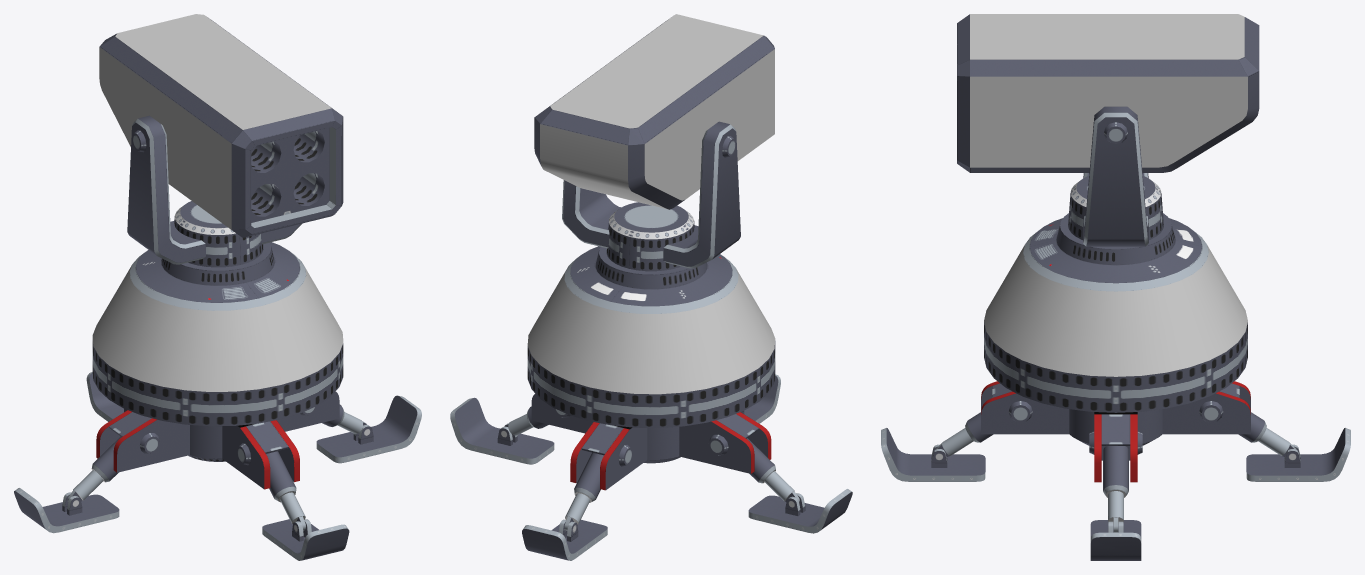
The model's file is Turret_Simple_02.FBX.
The picture shows the model from 3 angles, left to right: view 1: azimuth 30°, elevation 25°; view 2: azimuth 150°, elevation 25°; view 3: azimuth 270°, elevation 25°; orthographic projection. The views are drawn at different scales.
Visible parts, largest first — view 1: Turret_Body_A, Turret_Launcher, Turret_Head_A, Gear_D, Gear_A, Foot_B, Foot_D, Foot_A, Hydrolic_A, Gear_B, Hydrolic_D, Foot_C (+1 smaller); view 2: Turret_Body_A, Turret_Launcher, Turret_Head_A, Gear_D, Gear_C, Foot_B, Foot_D, Foot_C, Hydrolic_C, Gear_B, Hydrolic_D, Foot_A (+1 smaller); view 3: Turret_Launcher, Turret_Body_A, Turret_Head_A, Gear_C, Gear_A, Foot_C, Foot_A, Gear_B, Foot_B, Hydrolic_B, Hydrolic_C, Hydrolic_A.
Boxes of the visible parts, x1=… form: Turret_Body_A: x1=92, y1=242, x2=343, y2=461; Turret_Launcher: x1=99, y1=14, x2=343, y2=237; Turret_Head_A: x1=127, y1=115, x2=302, y2=267; Gear_D: x1=96, y1=410, x2=189, y2=472; Gear_A: x1=222, y1=420, x2=299, y2=489; Foot_B: x1=316, y1=395, x2=421, y2=463; Foot_D: x1=14, y1=488, x2=119, y2=533; Foot_A: x1=262, y1=519, x2=349, y2=560; Hydrolic_A: x1=266, y1=451, x2=305, y2=530; Gear_B: x1=277, y1=391, x2=339, y2=431; Hydrolic_D: x1=67, y1=436, x2=121, y2=501; Foot_C: x1=86, y1=372, x2=127, y2=421; Turret_Body_A: x1=527, y1=246, x2=775, y2=463; Turret_Launcher: x1=534, y1=14, x2=774, y2=209; Turret_Head_A: x1=562, y1=121, x2=740, y2=271; Gear_D: x1=679, y1=412, x2=771, y2=473; Gear_C: x1=570, y1=422, x2=647, y2=490; Foot_B: x1=450, y1=397, x2=554, y2=464; Foot_D: x1=748, y1=489, x2=852, y2=533; Foot_C: x1=522, y1=519, x2=607, y2=560; Hydrolic_C: x1=564, y1=452, x2=603, y2=530; Gear_B: x1=531, y1=393, x2=593, y2=433; Hydrolic_D: x1=746, y1=438, x2=799, y2=502; Foot_A: x1=741, y1=374, x2=780, y2=423; Turret_Launcher: x1=957, y1=14, x2=1259, y2=172; Turret_Body_A: x1=984, y1=213, x2=1247, y2=445; Turret_Head_A: x1=1068, y1=106, x2=1163, y2=246; Gear_C: x1=1162, y1=381, x2=1250, y2=434; Gear_A: x1=981, y1=381, x2=1069, y2=434; Foot_C: x1=1246, y1=428, x2=1350, y2=481; Foot_A: x1=881, y1=428, x2=985, y2=481; Gear_B: x1=1089, y1=412, x2=1142, y2=482; Foot_B: x1=1090, y1=520, x2=1141, y2=560; Hydrolic_B: x1=1103, y1=446, x2=1128, y2=532; Hydrolic_C: x1=1238, y1=412, x2=1296, y2=457; Hydrolic_A: x1=935, y1=412, x2=993, y2=457.
Size of the model in its own units: 5.64 by 5.75 by 5.64.
